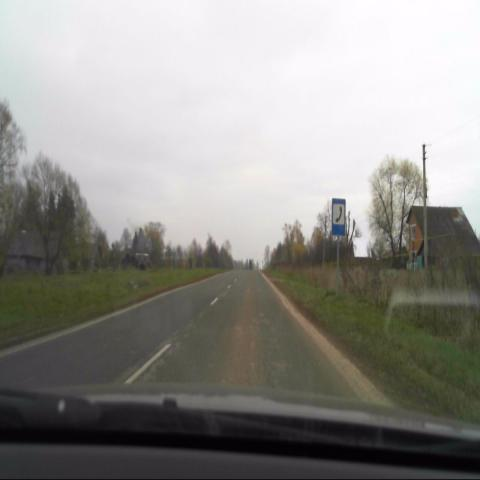7_6: (331, 197, 345, 237)
